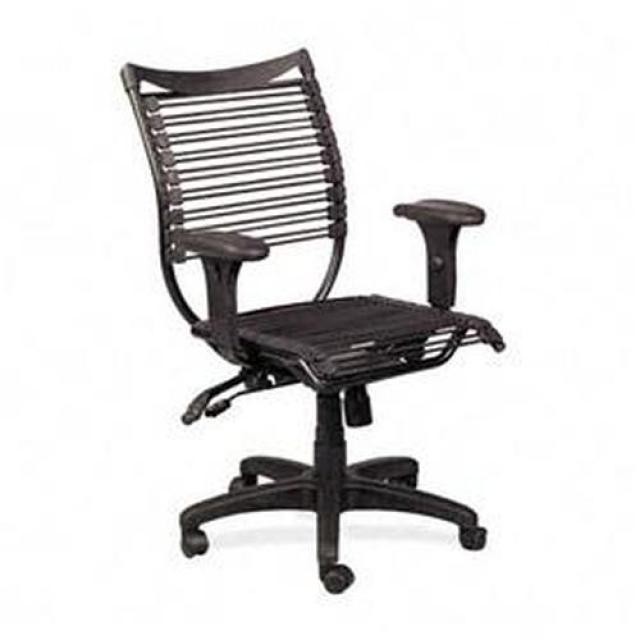swivelchair: (122, 51, 507, 598)
